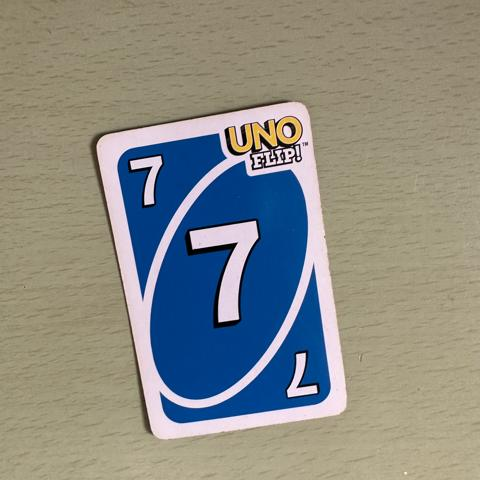lblue-7: (118, 142, 187, 222)
